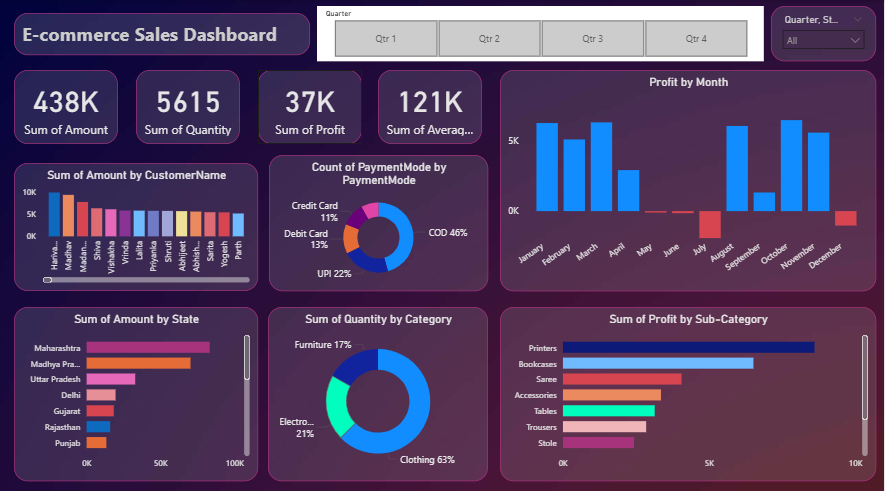

Layout of this report page (visuals, bound fields, positions):
{"tool":"powerbi","page":{"name":"Page 1","canvas":[1280,720],"ordinal":0},"visuals":[{"type":"textbox","box":[23.1,18.8,428,60.7],"z":0},{"type":"columnChart","title":"Profit by Month","fields":{"Y":["Details.Profit"],"Category":["Orders.Order Date.Variation.Date Hierarchy.Month"]},"box":[725.8,101.2,543.6,319.5],"z":1000},{"type":"barChart","fields":{"Category":["Details.Sub-Category"],"Y":["Details.Profit"]},"box":[725.8,443.9,543.6,251.6],"z":2000},{"type":"donutChart","fields":{"Category":["Details.Category"],"Y":["Details.Quantity"]},"box":[390.4,443.9,318.1,251.6],"z":3000},{"type":"donutChart","fields":{"Category":["Details.PaymentMode"],"Y":["Details.PaymentMode"]},"box":[391.8,224.1,316.6,196.6],"z":4000},{"type":"card","fields":{"Values":["Details.Amount"]},"box":[23.1,101.2,150.4,107],"z":5000},{"type":"card","fields":{"Values":["Details.Quantity"]},"box":[199.5,101.2,150.4,107],"z":6000},{"type":"card","fields":{"Values":["Details.Profit"]},"box":[375.9,101.2,150.4,107],"z":7000},{"type":"card","fields":{"Values":["Details.Average Order Value"]},"box":[549.4,101.2,150.4,107],"z":8000},{"type":"columnChart","fields":{"Category":["Orders.CustomerName"],"Y":["Details.Amount"]},"box":[23.1,235.7,352.8,185.1],"z":9000},{"type":"slicer","fields":{"Values":["Orders.Order Date.Variation.Date Hierarchy.Quarter"]},"box":[461.2,8.7,646.3,79.5],"z":10000},{"type":"slicer","fields":{"Values":["Orders.Order Date.Variation.Date Hierarchy.Quarter","Orders.State"]},"box":[1117.6,8.7,151.8,79.5],"z":11000},{"type":"barChart","fields":{"Category":["Orders.State"],"Y":["Details.Amount"]},"box":[23.1,443.9,352.8,251.6],"z":12000}]}

Visuals, with their boxes in screenshot pixels (x1, y1, x2, y2), scaled from the page's 1280x720 canvas onto the 885x491 screenshot:
textbox: (left=16, top=13, right=312, bottom=54)
"Profit by Month" columnChart: (left=502, top=69, right=878, bottom=287)
barChart - Details.Sub-Category x Details.Profit: (left=502, top=303, right=878, bottom=474)
donutChart - Details.Category x Details.Quantity: (left=270, top=303, right=490, bottom=474)
donutChart - Details.PaymentMode x Details.PaymentMode: (left=271, top=153, right=490, bottom=287)
card - Details.Amount: (left=16, top=69, right=120, bottom=142)
card - Details.Quantity: (left=138, top=69, right=242, bottom=142)
card - Details.Profit: (left=260, top=69, right=364, bottom=142)
card - Details.Average Order Value: (left=380, top=69, right=484, bottom=142)
columnChart - Orders.CustomerName x Details.Amount: (left=16, top=161, right=260, bottom=287)
slicer - Orders.Order Date.Variation.Date Hierarchy.Quarter: (left=319, top=6, right=766, bottom=60)
slicer - Orders.Order Date.Variation.Date Hierarchy.Quarter x Orders.State: (left=773, top=6, right=878, bottom=60)
barChart - Orders.State x Details.Amount: (left=16, top=303, right=260, bottom=474)
